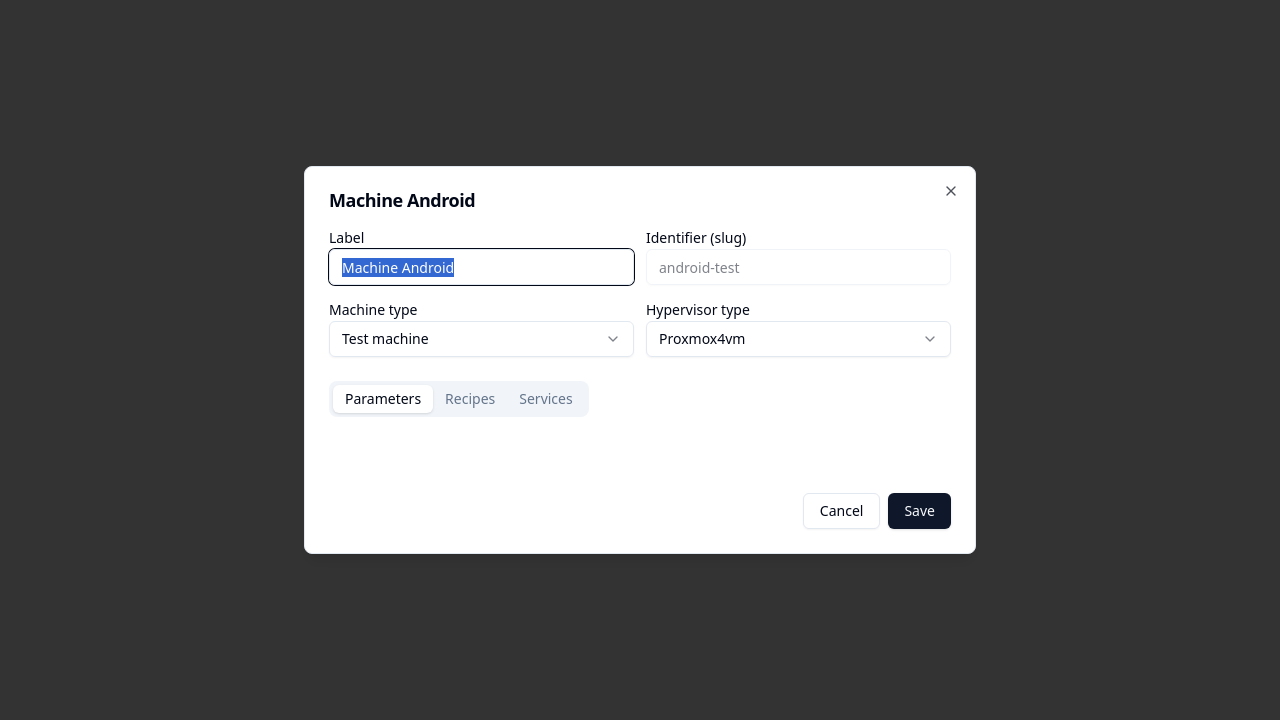
Test: MachineProfileEditor — services › propose les parametres declares par le template
This screenshot has width=1280, height=720.
Click the tab "Services": (546, 399) x1=507 y1=385 x2=585 y2=413
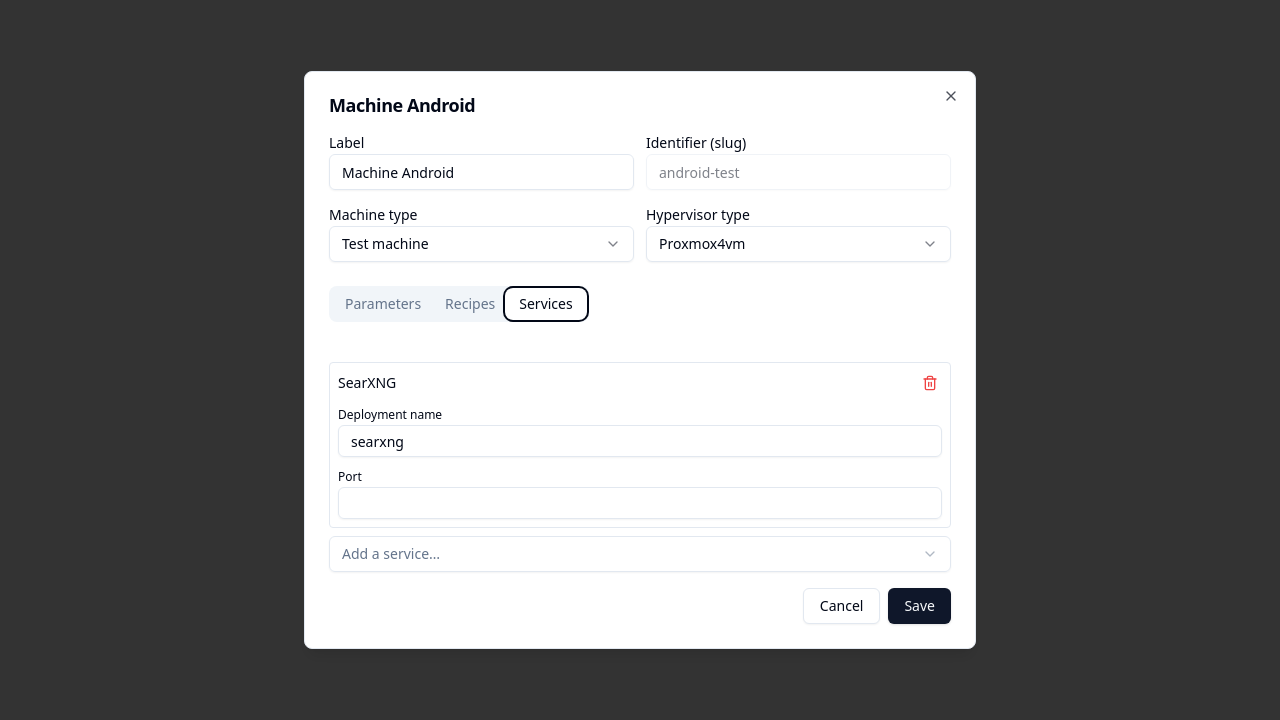
Expected: the element with test id "service-searxng" shows "Port", x1=338 y1=468 x2=362 y2=485
Expected: the element with test id "service-searxng" shows "SearXNG", x1=338 y1=373 x2=396 y2=392
